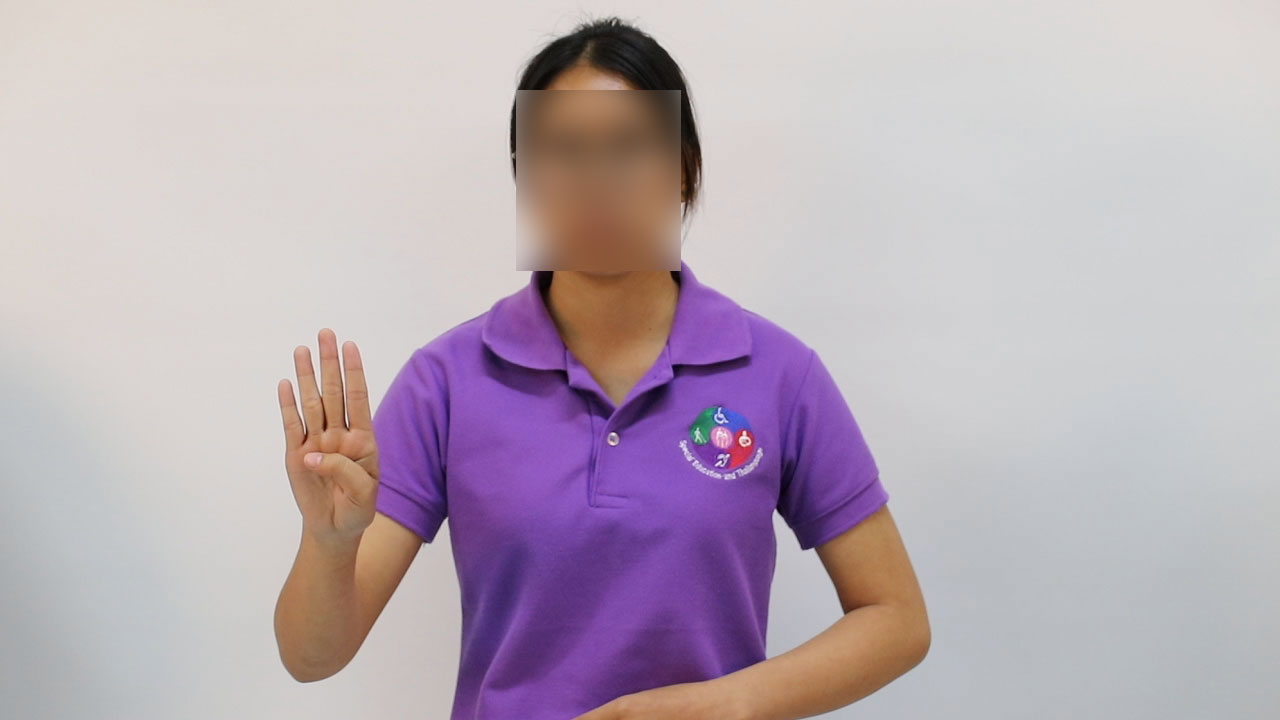bor: (264, 314, 393, 563)
